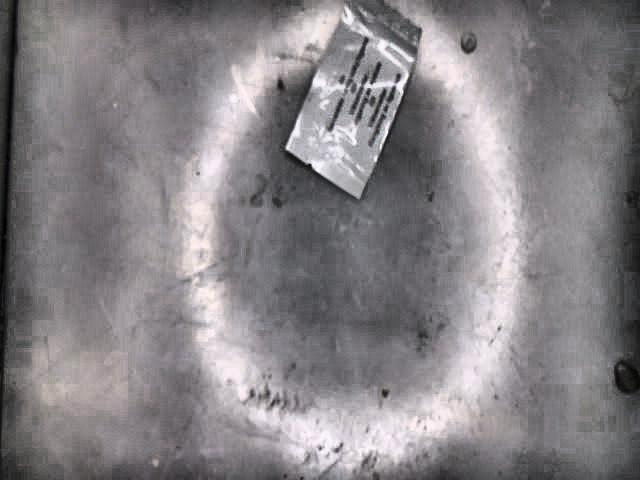Plastic: (285, 0, 428, 202)
